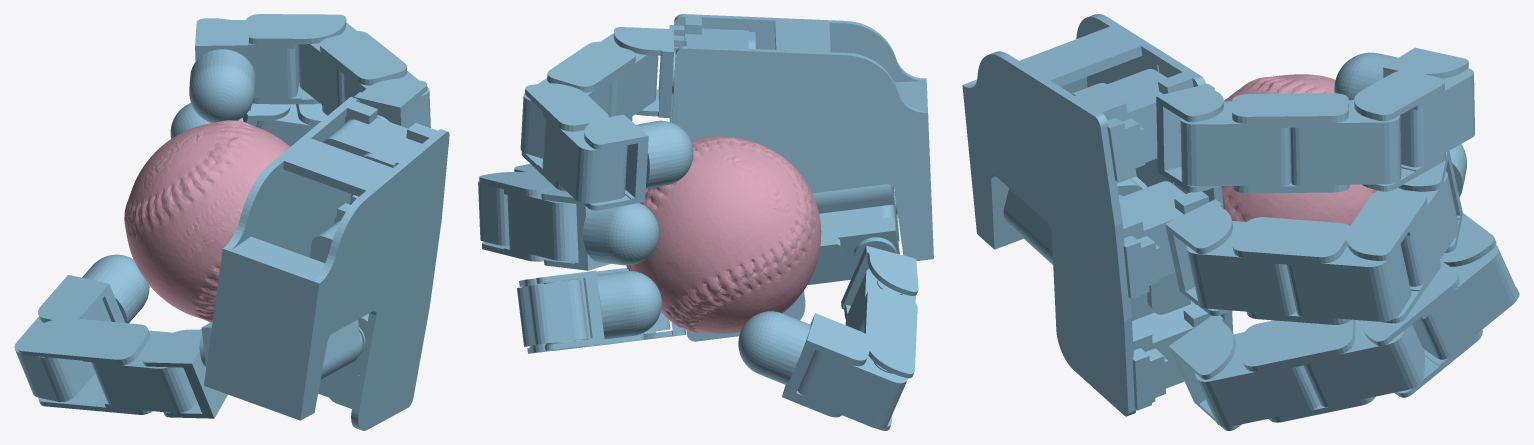
3 renders of one model, left to right at view 1: azimuth 30°, elevation 25°; view 2: azimuth 150°, elevation 25°; view 3: azimuth 270°, elevation 25°, orthographic. The views are drawn at different scales.
Parts seen in each view (by area): view 1: world; view 2: world; view 3: world.
Boxes of the visible parts, left/top/right/bottom form: world: left=14, top=14, right=449, bottom=430; world: left=478, top=14, right=933, bottom=430; world: left=962, top=14, right=1519, bottom=430.
Size of the model in its own units: 0.1729 by 0.1207 by 0.1819.
